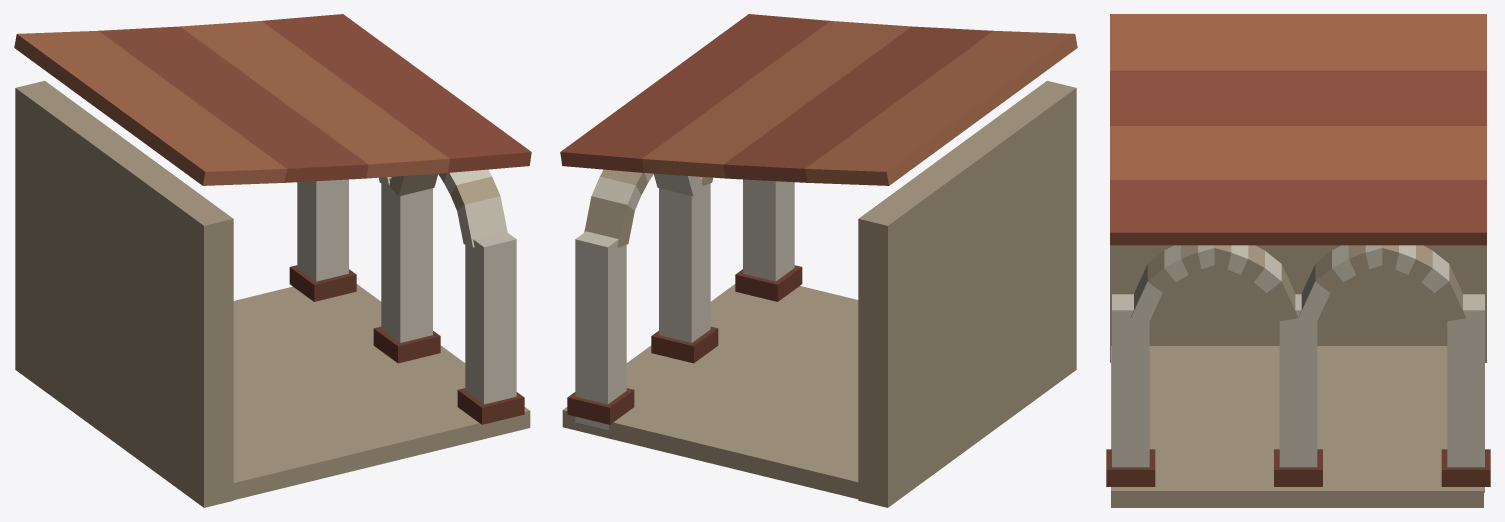
The model's file is Cloister__Bay.fbx.
The picture shows the model from 3 angles, left to right: view 1: azimuth 30°, elevation 25°; view 2: azimuth 150°, elevation 25°; view 3: azimuth 270°, elevation 25°; orthographic projection.
Visible parts, largest first — view 1: Cloister__Bay; view 2: Cloister__Bay; view 3: Cloister__Bay.
Boxes of the visible parts, <box> form: Cloister__Bay: <box>14,14,531,507</box>; Cloister__Bay: <box>560,14,1077,507</box>; Cloister__Bay: <box>1106,14,1490,507</box>.
Bounding box in the file's own units: 403 × 393 × 408.
1 material, 1 textured.
